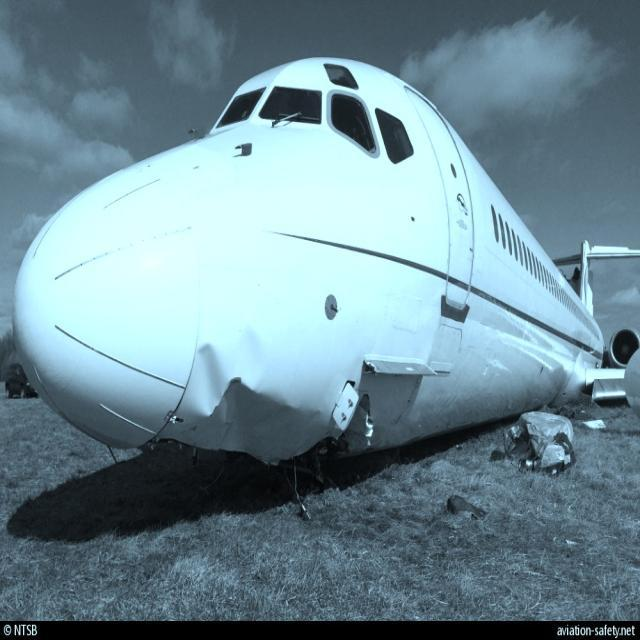dent: (189, 337, 228, 415), (240, 328, 270, 387)
